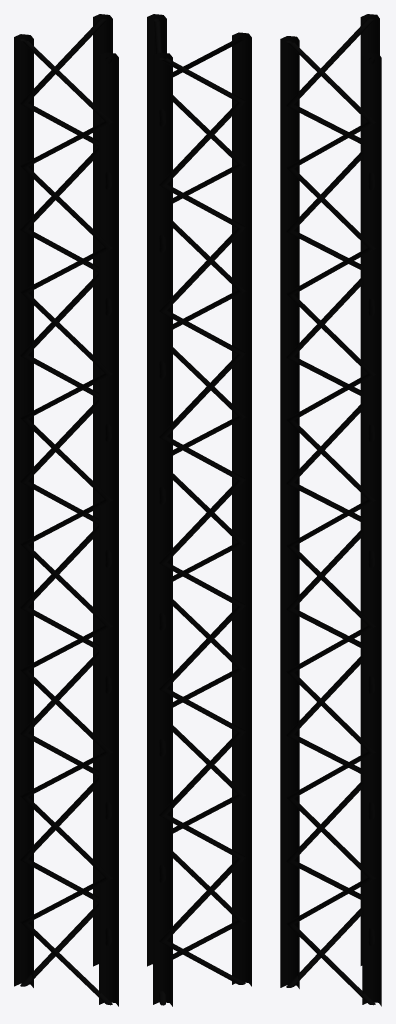
Rendered from Truss.fbx.
3 renders of one model, left to right at view 1: azimuth 30°, elevation 25°; view 2: azimuth 210°, elevation 25°; view 3: azimuth 270°, elevation 25°, orthographic.
Visible parts, largest first — view 1: Truss; view 2: Truss; view 3: Truss.
Boxes of the visible parts, <box> form: Truss: <box>14,14,118,1006</box>; Truss: <box>147,14,251,1006</box>; Truss: <box>280,14,381,1006</box>.
Size of the model in its own units: 0.2113 by 2 by 0.1929.
Materials: 1 (1 with a texture image).
